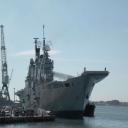Portanaves: (14, 24, 112, 121)
